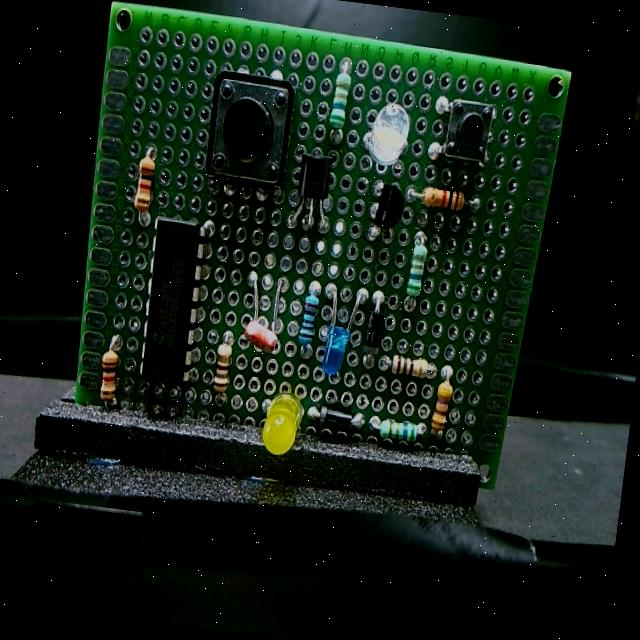IC: (130, 202, 220, 390)
cds: (237, 273, 286, 382)
diode: (358, 295, 392, 368), (314, 398, 366, 438)
led: (311, 279, 367, 387), (252, 383, 307, 470), (360, 96, 418, 170)
resistor: (120, 142, 167, 226), (396, 228, 434, 314), (320, 58, 362, 135), (94, 326, 127, 409), (426, 364, 459, 444), (206, 334, 240, 411), (416, 176, 476, 218), (371, 412, 427, 456), (289, 282, 326, 348), (386, 348, 435, 385)
switch: (198, 58, 304, 188), (430, 88, 502, 170)
transistor: (282, 145, 338, 231), (364, 176, 411, 240)
